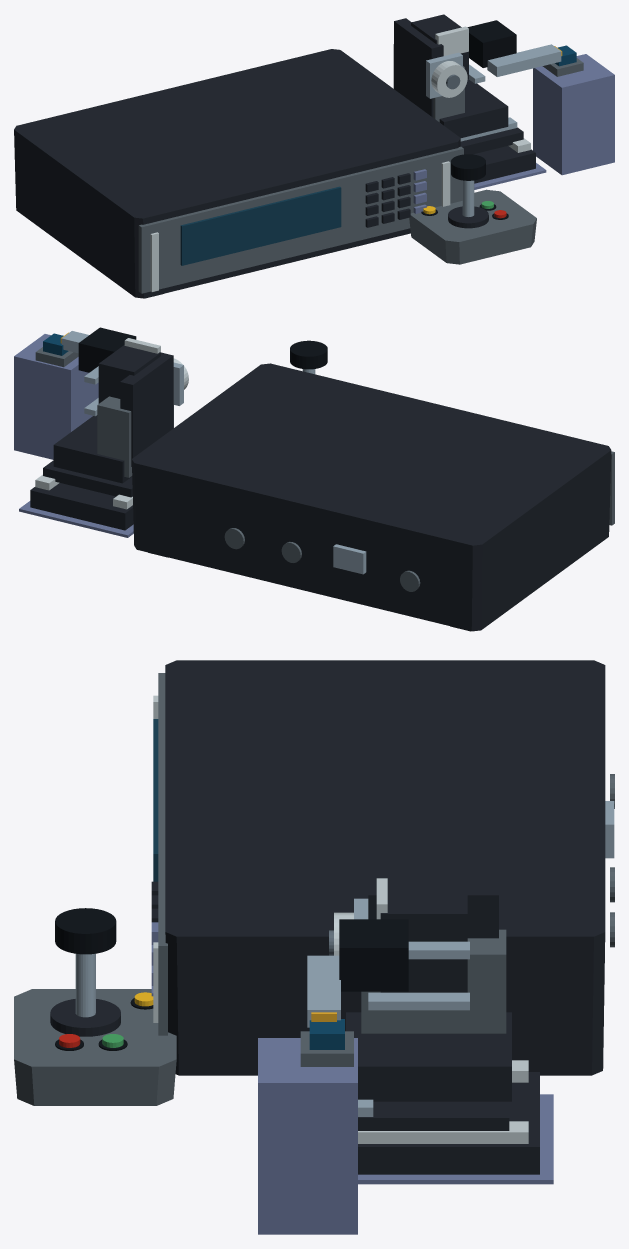
The model's file is sutter-mp285.glb.
3 views of the same model, one above another, from view 1: azimuth 30°, elevation 25°; view 2: azimuth 150°, elevation 25°; view 3: azimuth 270°, elevation 25° (orthographic). The views are drawn at different scales.
Visible parts, largest first — view 1: controller, sample_base, slide_xy, joystick, slide_z, stage_base, joy_xy, slide_x, stand; view 2: controller, slide_xy, sample_base, slide_z, stage_base, slide_x, joy_xy, stand; view 3: controller, slide_xy, sample_base, slide_z, joystick, stage_base, slide_x, joy_xy, stand, inert_cube.
Part boxes in pixels (bbox=[...]): controller: bbox=[14, 49, 463, 298]; sample_base: bbox=[533, 54, 614, 175]; slide_xy: bbox=[393, 18, 508, 137]; joystick: bbox=[409, 189, 536, 264]; slide_z: bbox=[411, 14, 562, 83]; stage_base: bbox=[473, 138, 535, 183]; joy_xy: bbox=[451, 154, 485, 216]; slide_x: bbox=[460, 117, 523, 154]; stand: bbox=[474, 163, 546, 189]; controller: bbox=[131, 363, 614, 631]; slide_xy: bbox=[53, 352, 188, 483]; sample_base: bbox=[14, 334, 98, 459]; slide_z: bbox=[60, 327, 160, 416]; stage_base: bbox=[30, 474, 133, 530]; slide_x: bbox=[43, 460, 132, 497]; joy_xy: bbox=[290, 340, 327, 374]; stand: bbox=[19, 501, 133, 537]; controller: bbox=[151, 660, 614, 1075]; slide_xy: bbox=[329, 885, 511, 1101]; sample_base: bbox=[258, 1031, 357, 1234]; slide_z: bbox=[307, 878, 469, 1027]; joystick: bbox=[14, 989, 176, 1105]; stage_base: bbox=[358, 1060, 539, 1174]; slide_x: bbox=[358, 1099, 509, 1130]; joy_xy: bbox=[55, 908, 116, 1017]; stand: bbox=[358, 1094, 553, 1184]; inert_cube: bbox=[309, 1019, 344, 1049].
Size of the model in its own units: 0.627 by 0.1625 by 0.373.
